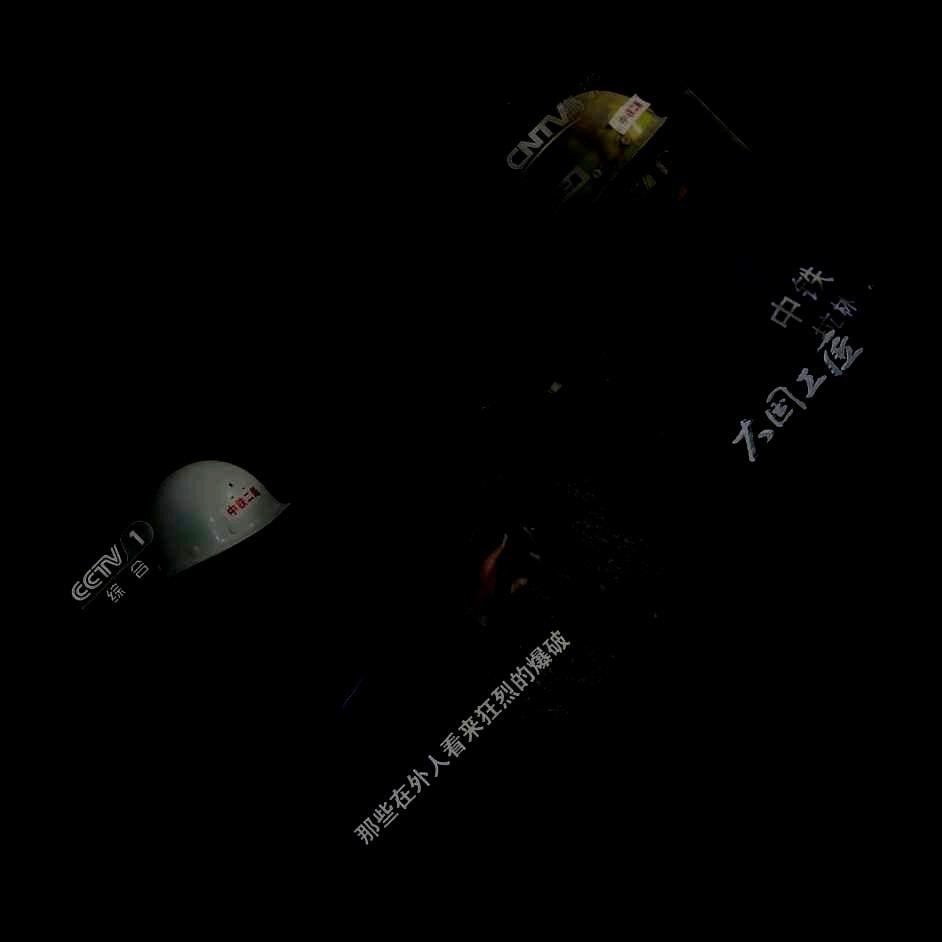helmet: (510, 92, 669, 237), (151, 459, 292, 580)
